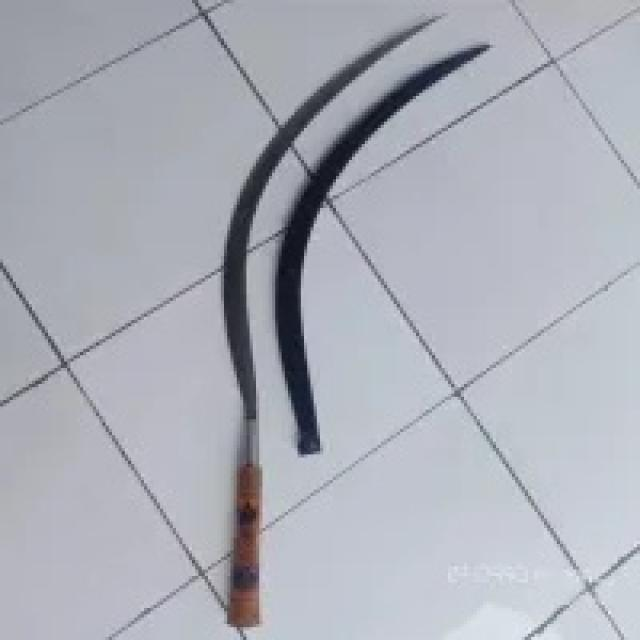Celurit: (223, 13, 439, 631)
